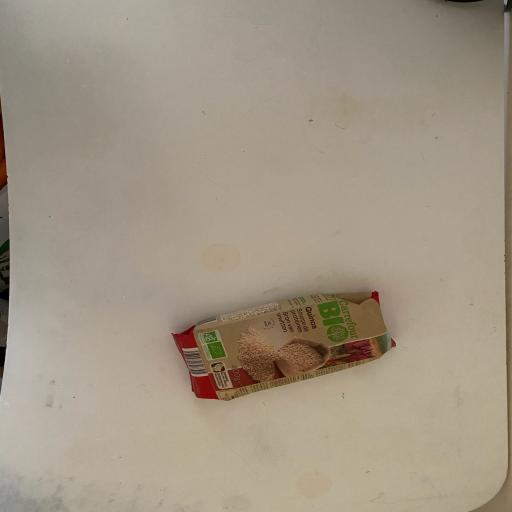quinoa: (150, 276, 427, 404)
